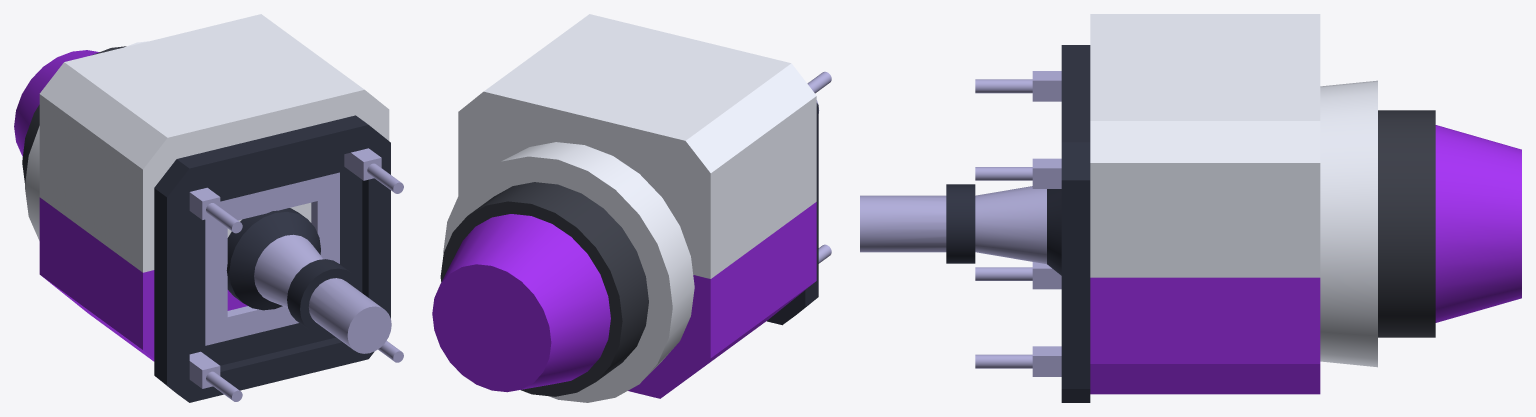
File: Plug.fbx
3 renders of one model, left to right at view 1: azimuth 30°, elevation 25°; view 2: azimuth 150°, elevation 25°; view 3: azimuth 270°, elevation 25°, orthographic. The views are drawn at different scales.
Visible parts, largest first — view 1: hull_body, panel, mast_bottomDetailed, detail_supports, engine_round; view 2: hull_body, engine_round, panel, detail_supports; view 3: hull_body, engine_round, mast_bottomDetailed, panel, detail_supports.
Boxes of the visible parts, <box> form: hull_body: <box>39,14,389,361</box>; panel: <box>154,115,390,402</box>; mast_bottomDetailed: <box>226,208,391,353</box>; detail_supports: <box>189,148,403,401</box>; engine_round: <box>14,41,148,240</box>; hull_body: <box>458,14,816,398</box>; engine_round: <box>432,142,694,402</box>; panel: <box>767,103,818,325</box>; detail_supports: <box>807,71,831,263</box>; hull_body: <box>1090,14,1320,394</box>; engine_round: <box>1320,80,1521,367</box>; mast_bottomDetailed: <box>860,184,1061,275</box>; panel: <box>1061,45,1090,402</box>; detail_supports: <box>975,71,1061,376</box>.
Bounding box in the file's own units: 5.5 × 5.5 × 11.5.
